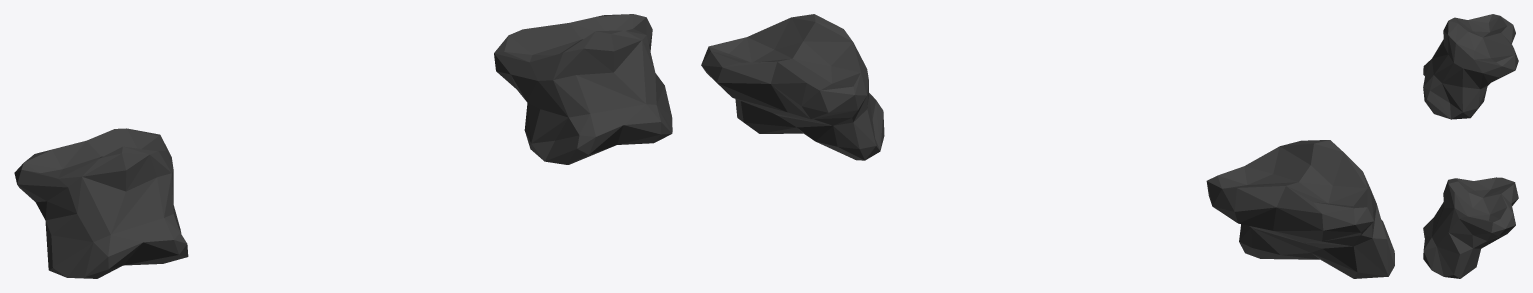
File: skel_FL_phalanx_middle.glb
3 renders of one model, left to right at view 1: azimuth 30°, elevation 25°; view 2: azimuth 150°, elevation 25°; view 3: azimuth 270°, elevation 25°, orthographic. The views are drawn at different scales.
Parts seen in each view (by area): view 1: skel_FL_phalanx_middle; view 2: skel_FL_phalanx_middle; view 3: skel_FL_phalanx_middle.
Part boxes in pixels (x1,y1,x2,y2): skel_FL_phalanx_middle: (14, 14, 672, 278); skel_FL_phalanx_middle: (701, 14, 1394, 278); skel_FL_phalanx_middle: (1423, 14, 1518, 278).
Size of the model in its own units: 0.00428 by 0.000778 by 0.000816.
Materials: 1 (1 with a texture image).
